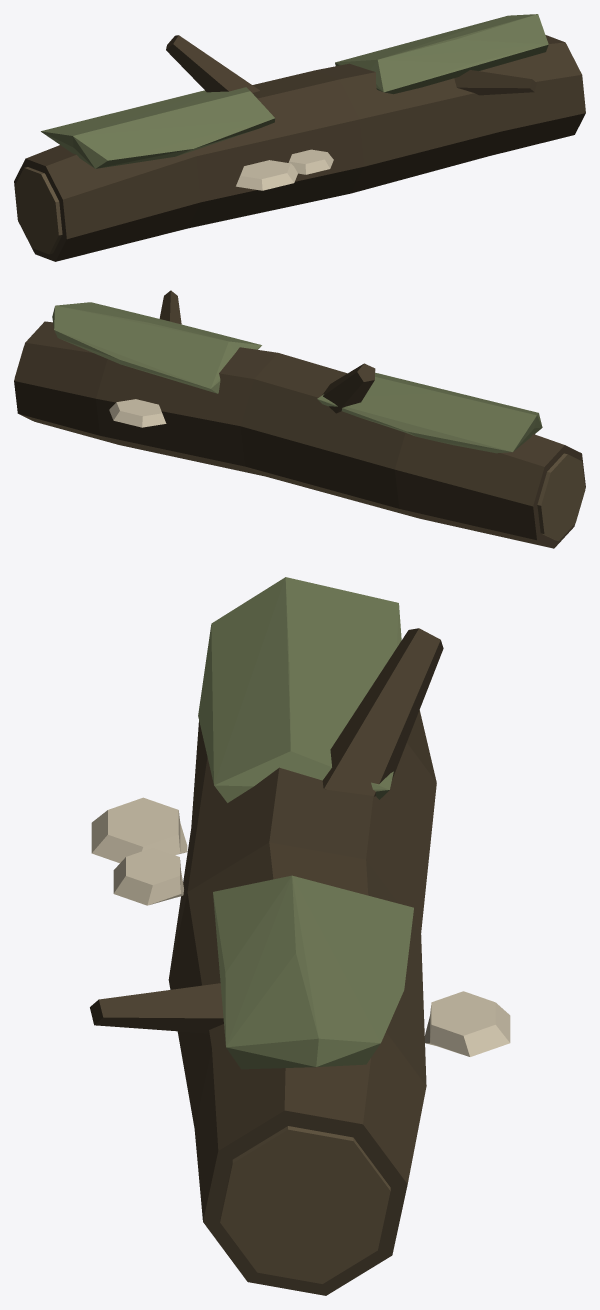
Rendered from Swamp_Log.fbx.
3 views of the same model, one above another, from view 1: azimuth 30°, elevation 25°; view 2: azimuth 150°, elevation 25°; view 3: azimuth 270°, elevation 25° (orthographic). The views are drawn at different scales.
Visible parts, largest first — view 1: Bark, Moss, Ends, Fungus; view 2: Bark, Moss, Ends, Fungus; view 3: Bark, Moss, Ends, Fungus.
Part boxes in pixels (x1,y1,x2,y2): Bark: (14, 35, 585, 261); Moss: (41, 14, 548, 168); Ends: (14, 77, 585, 254); Fungus: (236, 149, 333, 190); Bark: (14, 290, 585, 548); Moss: (52, 302, 542, 453); Ends: (14, 347, 585, 541); Fungus: (109, 399, 166, 427); Bark: (90, 628, 443, 1295); Moss: (198, 577, 413, 1069); Ends: (220, 1126, 390, 1283); Fungus: (91, 797, 510, 1056).
Bounding box in the file's own units: 7 × 2.06 × 2.42.
